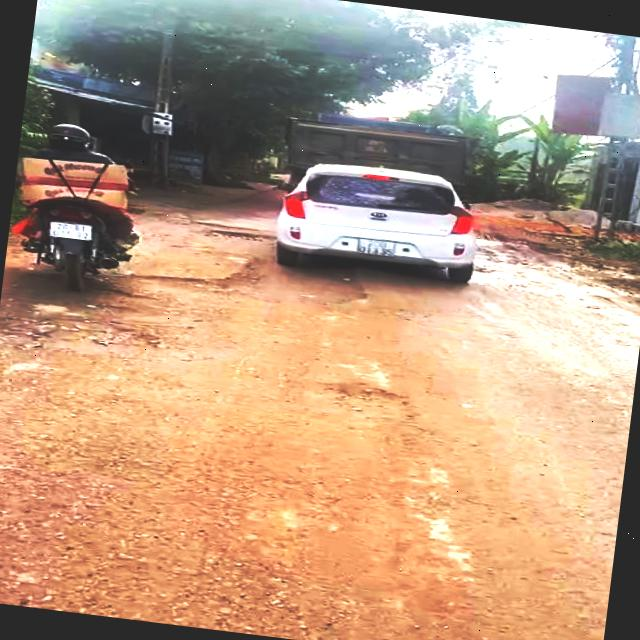pothole: (118, 257, 372, 316), (12, 304, 165, 358), (306, 372, 412, 413)
